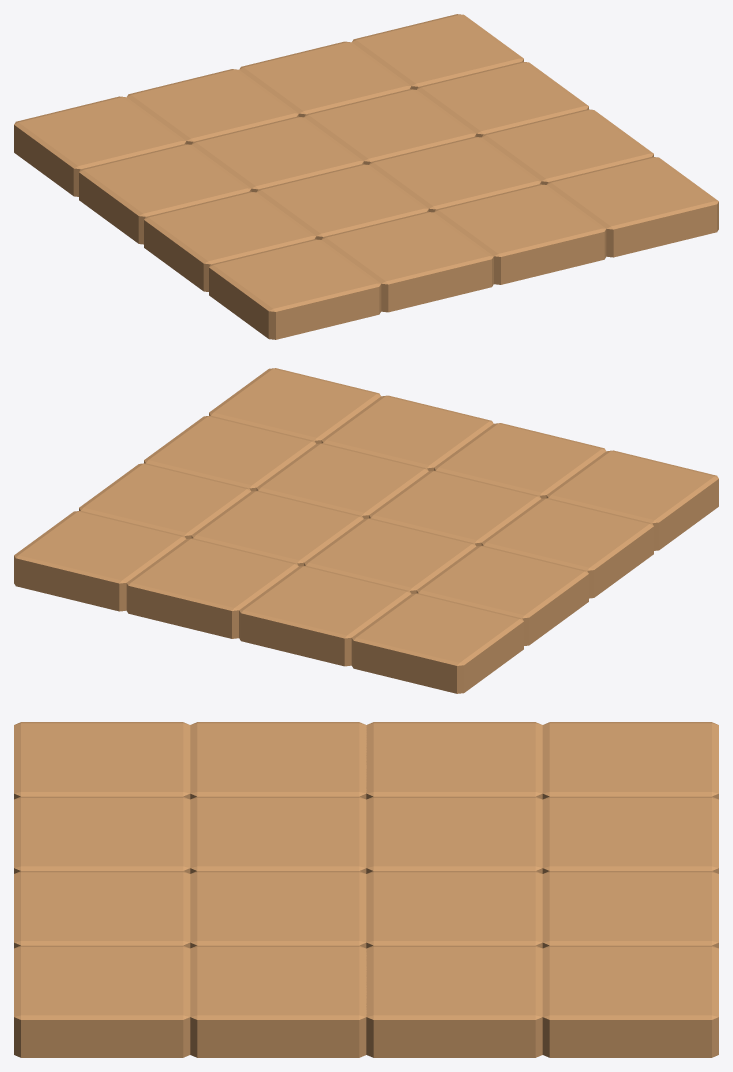
The model's file is piso de tutorial.glb.
3 views of the same model, one above another, from view 1: azimuth 30°, elevation 25°; view 2: azimuth 150°, elevation 25°; view 3: azimuth 270°, elevation 25° (orthographic). The views are drawn at different scales.
Parts seen in each view (by area): view 1: Cubo; view 2: Cubo; view 3: Cubo.
Boxes of the visible parts, x1,y1,x2,y2 form: Cubo: [14, 14, 718, 339]; Cubo: [14, 368, 718, 693]; Cubo: [14, 722, 718, 1057].
Size of the model in its own units: 8 by 0.5157 by 8.
